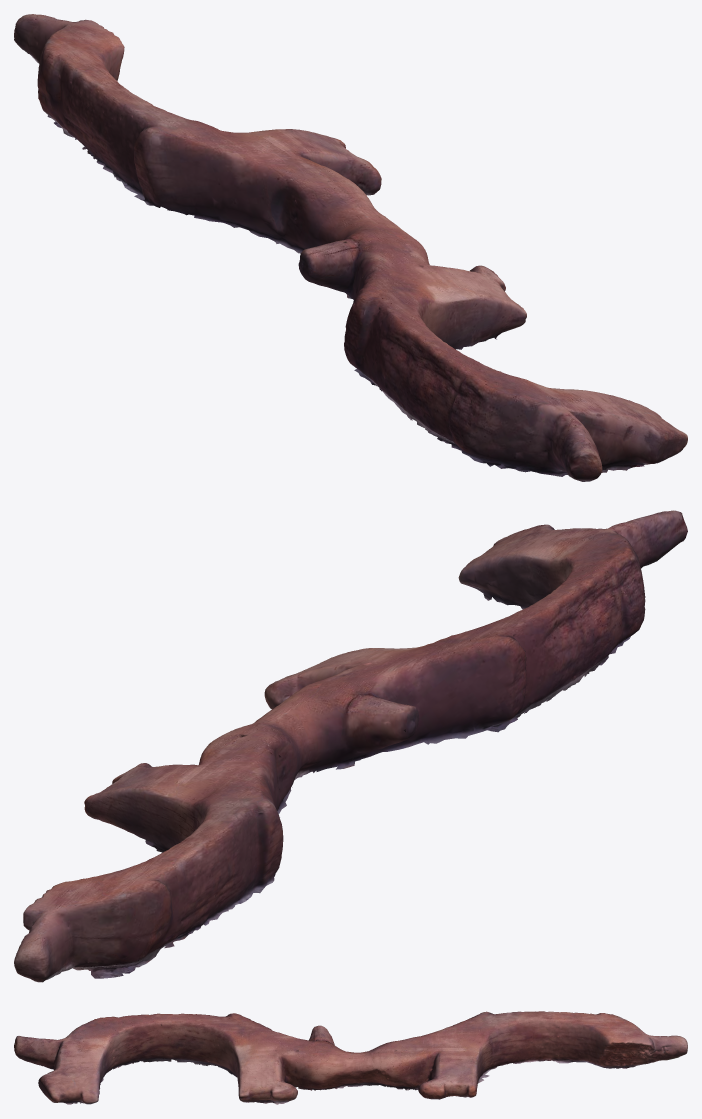
The model's file is YugoDobleLow.glb.
The picture shows the model from 3 angles, top to bottom: view 1: azimuth 30°, elevation 25°; view 2: azimuth 150°, elevation 25°; view 3: azimuth 270°, elevation 25°; orthographic projection. The views are drawn at different scales.
Visible parts, largest first — view 1: Yugo; view 2: Yugo; view 3: Yugo.
Part boxes in pixels (x1,y1,x2,y2): Yugo: (14, 14, 687, 481); Yugo: (14, 510, 687, 982); Yugo: (14, 1011, 687, 1104).
Size of the model in its own units: 2.14 by 0.9745 by 10.69.
Materials: 1 (1 with a texture image).
